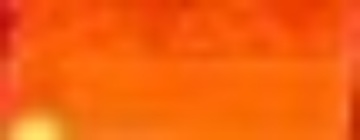Hotspot: (5, 110, 67, 140)
